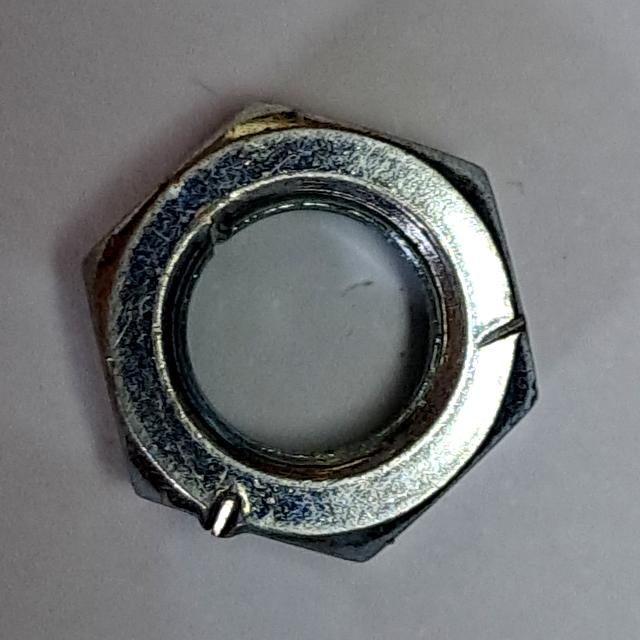Scratches: (64, 73, 558, 583)
